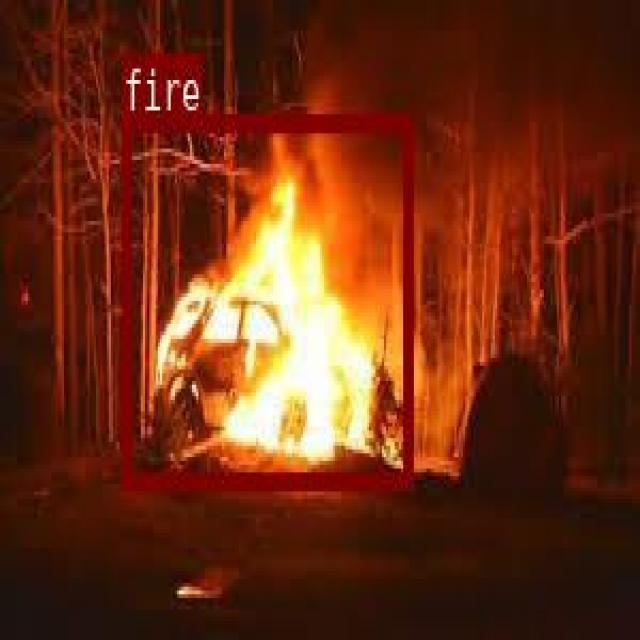fire: (121, 114, 412, 487)
